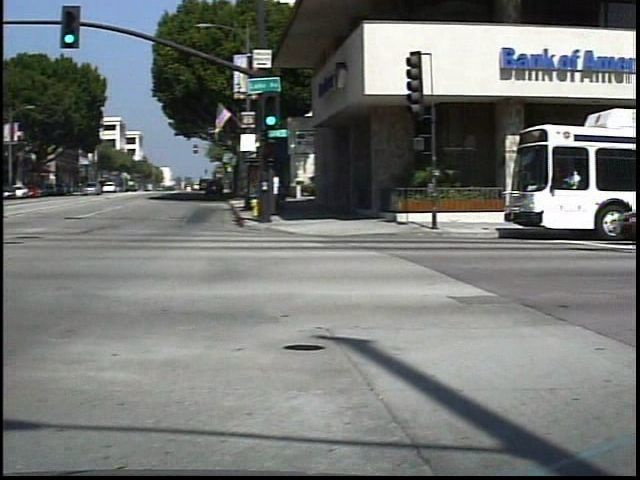person: (273, 167, 296, 217)
